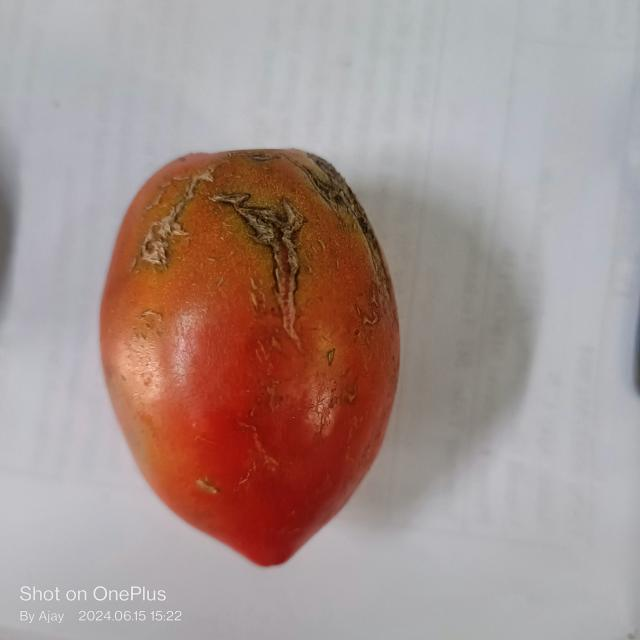tomato_cracking: (203, 185, 314, 354), (140, 173, 200, 280)
